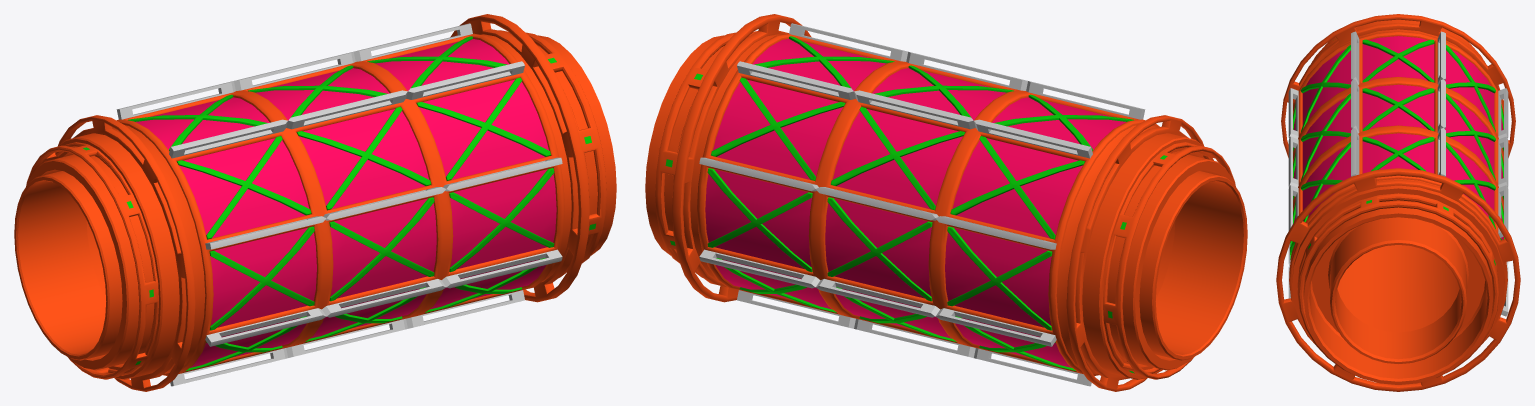
File: module1.obj
3 views of the same model, side by side, from view 1: azimuth 30°, elevation 25°; view 2: azimuth 150°, elevation 25°; view 3: azimuth 270°, elevation 25° (orthographic). The views are drawn at different scales.
Parts seen in each view (by area): view 1: module1_Material.049, module1_1body, module1_Material.058, module1_Material.061; view 2: module1_Material.049, module1_1body, module1_Material.058, module1_Material.061; view 3: module1_Material.049, module1_1body, module1_Material.061, module1_Material.058.
Part boxes in pixels (bbox=[...]): module1_Material.049: bbox=[14, 14, 616, 391]; module1_1body: bbox=[136, 39, 556, 367]; module1_Material.058: bbox=[116, 23, 562, 386]; module1_Material.061: bbox=[83, 36, 595, 371]; module1_Material.049: bbox=[645, 14, 1247, 391]; module1_1body: bbox=[705, 39, 1125, 367]; module1_Material.058: bbox=[699, 23, 1145, 386]; module1_Material.061: bbox=[665, 36, 1167, 373]; module1_Material.049: bbox=[1276, 14, 1520, 391]; module1_1body: bbox=[1293, 36, 1503, 239]; module1_Material.061: bbox=[1290, 39, 1504, 265]; module1_Material.058: bbox=[1288, 31, 1508, 316].
Size of the model in its own units: 10 by 5 by 5.
